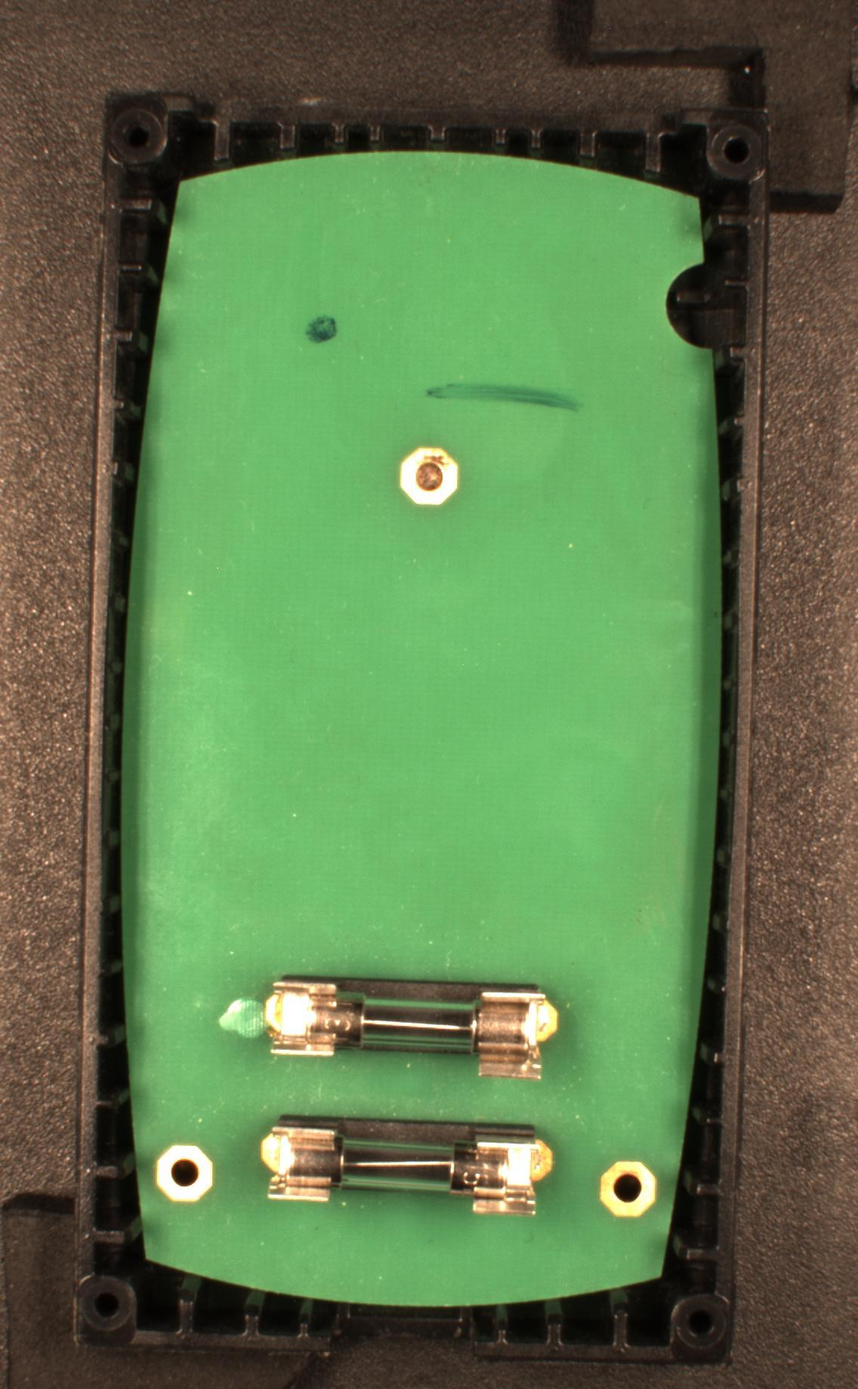Linijsko Ostecene: (425, 375, 584, 419)
Tockasto Ostecenje: (303, 313, 337, 344)
